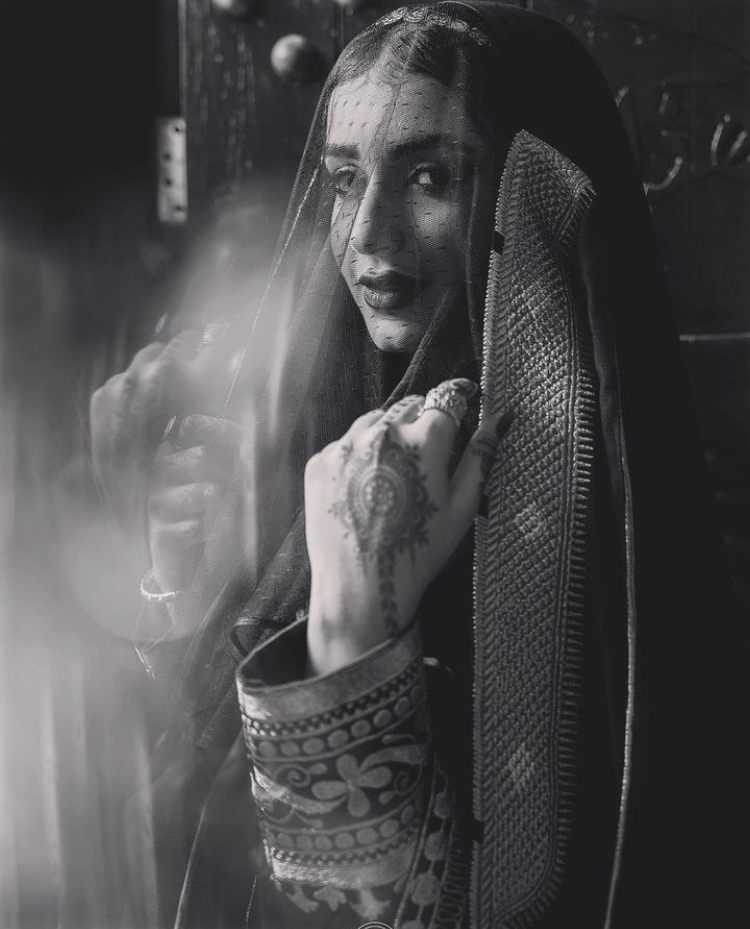Saudi_Founding_Day: (146, 8, 694, 929)
